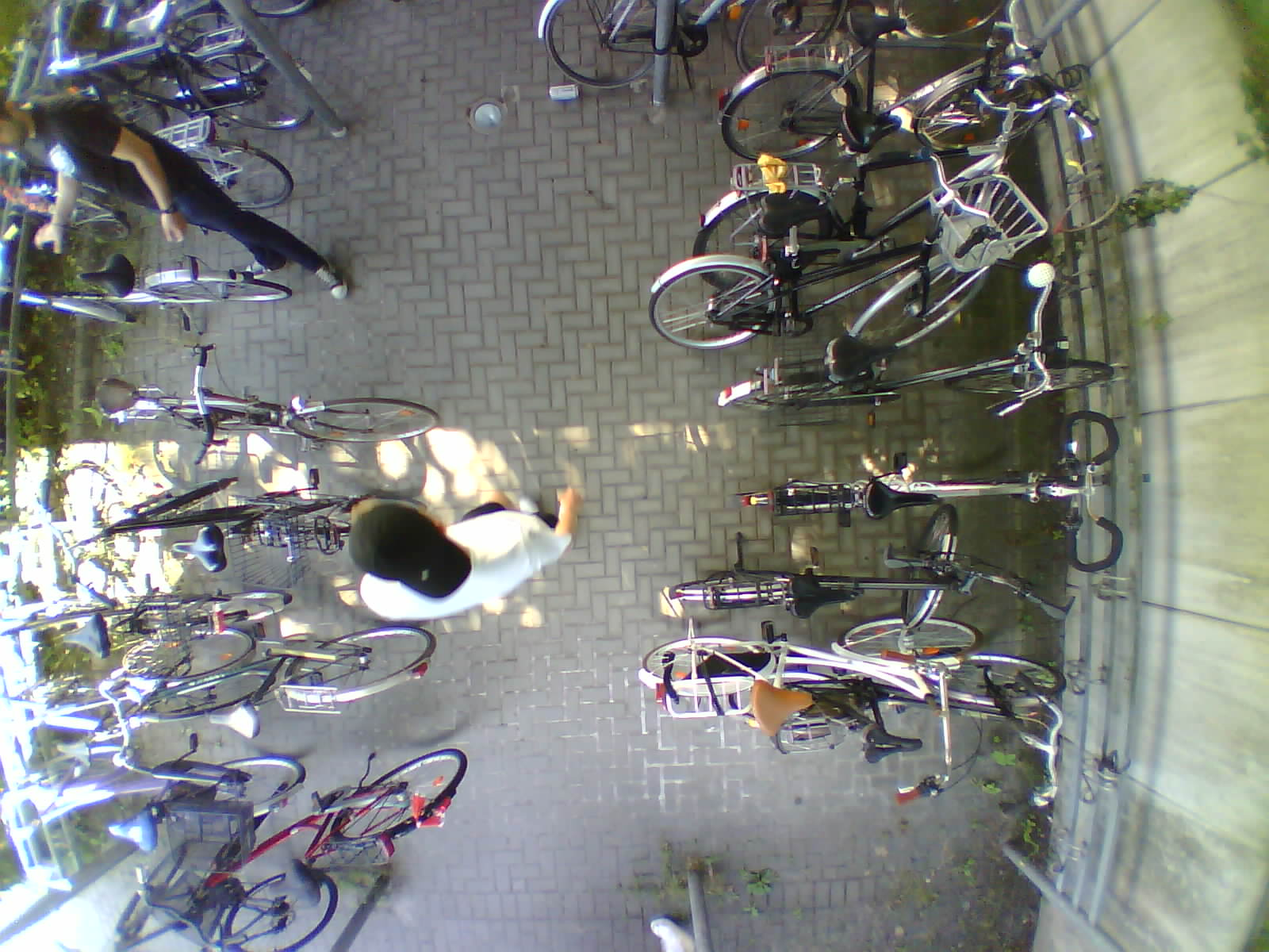bicylce: (648, 196, 997, 353), (694, 113, 1036, 269), (719, 27, 1054, 175), (181, 748, 468, 891), (638, 616, 974, 726), (675, 504, 980, 624), (720, 336, 1111, 428), (111, 624, 436, 731), (734, 656, 1067, 756), (17, 743, 309, 849), (89, 480, 352, 579), (101, 374, 442, 448), (10, 668, 277, 756), (109, 850, 341, 951), (734, 464, 1096, 528), (6, 582, 296, 660), (7, 256, 285, 333), (49, 29, 273, 113)
saddle: (753, 680, 813, 737), (827, 332, 898, 380), (841, 107, 901, 159), (763, 194, 828, 240), (796, 575, 859, 622), (76, 253, 135, 302), (867, 481, 939, 518), (863, 726, 923, 768), (844, 6, 908, 45), (172, 528, 226, 573), (269, 860, 320, 907), (209, 699, 259, 742), (62, 616, 110, 660), (108, 813, 158, 855), (95, 376, 140, 417), (125, 0, 172, 39), (56, 744, 94, 769)
